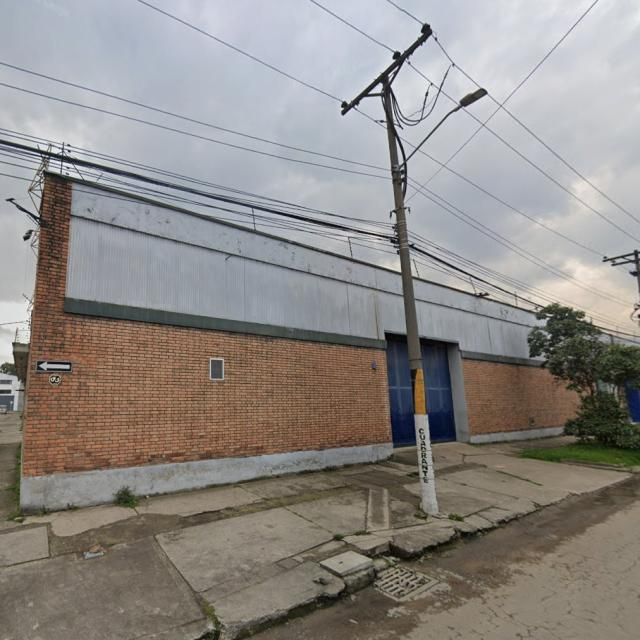fachada: (21, 173, 414, 512), (0, 373, 23, 411)
poste: (382, 78, 438, 514), (634, 250, 639, 298)
